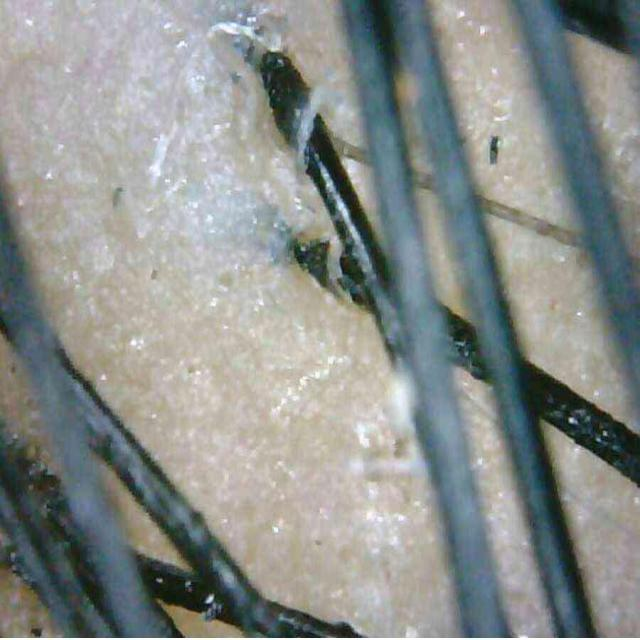o: (167, 19, 302, 237), (231, 268, 344, 412)
